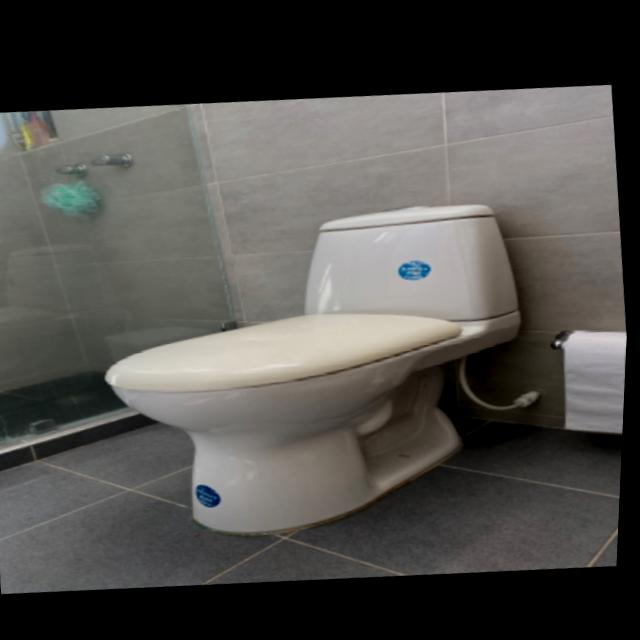toilet: (86, 173, 551, 558)
